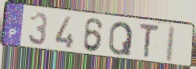3: (28, 11, 48, 47)
4: (54, 16, 76, 50)
6: (82, 18, 104, 54)
I: (164, 25, 178, 64)
Q: (107, 21, 135, 56)
T: (138, 23, 161, 61)
